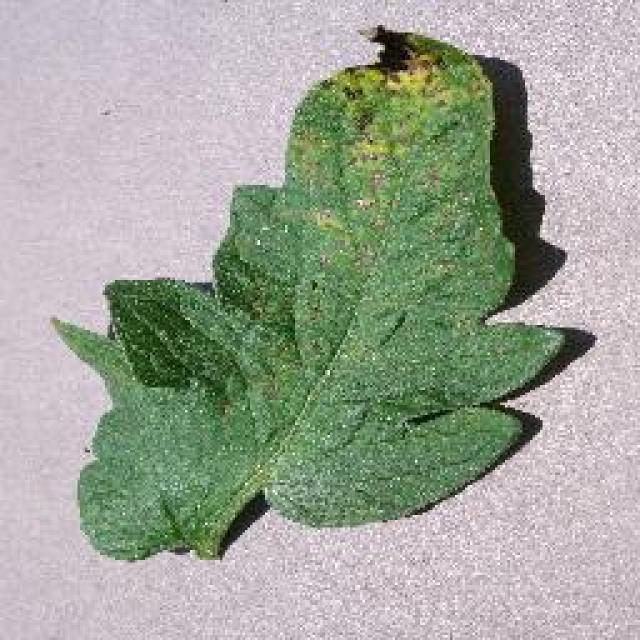Tomato___Septoria_leaf_spot: (55, 30, 562, 558)
